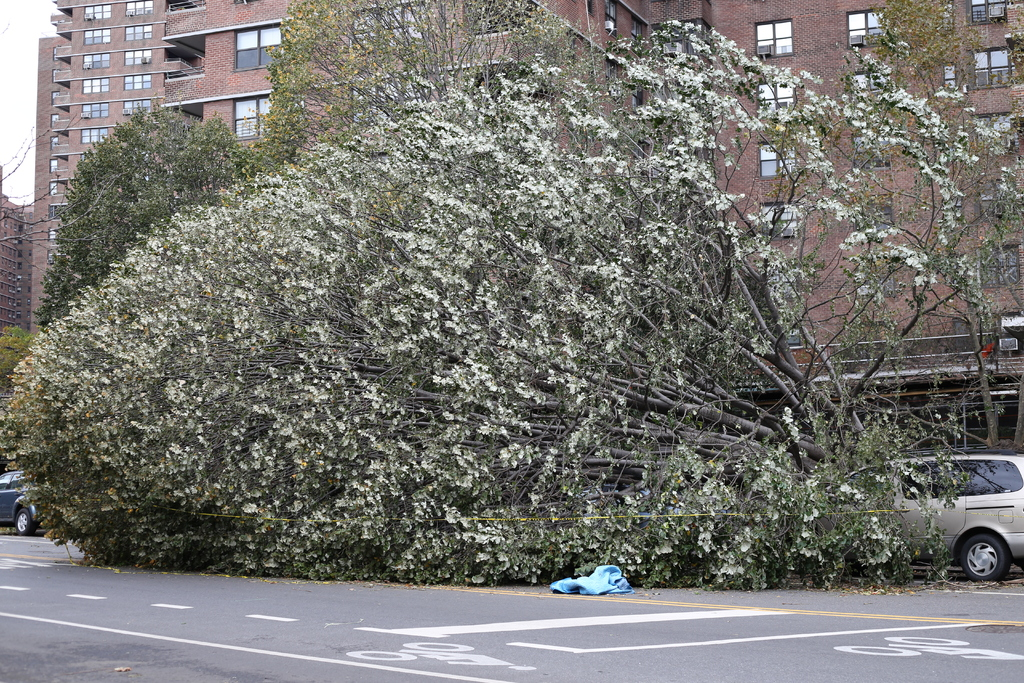Car: (830, 461, 1023, 589), (1, 458, 40, 542)
